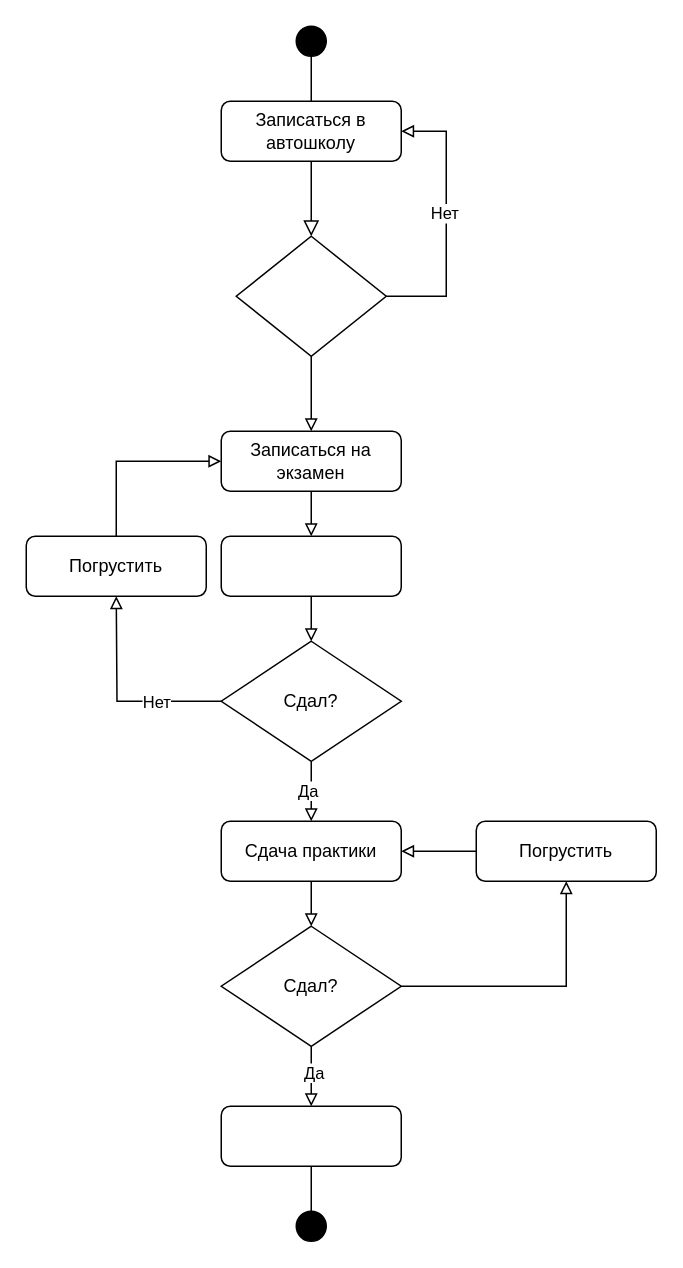
Some shapes in this 683 by 1268 pixel diagram are drawn without their labels. The centre of each missing label's shape, as x and y in pixels:
Доучился до экзамена?: the point at 310,295
Получение прав: the point at 310,1135
Сдача теории: the point at 310,565
